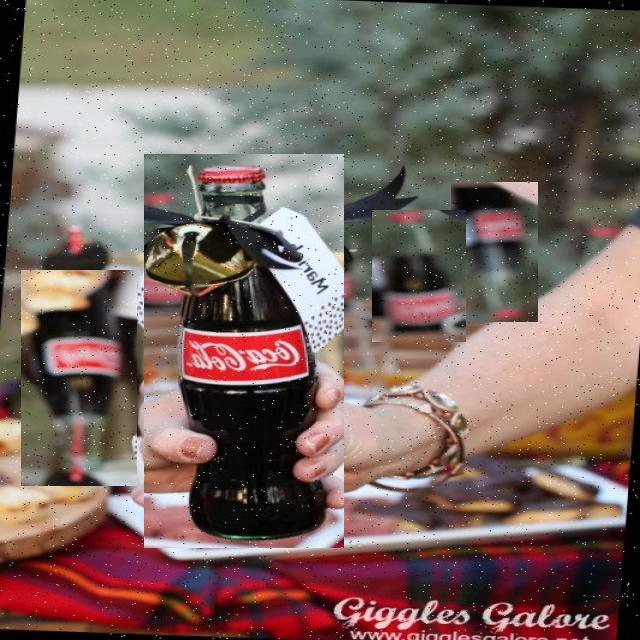coca-cola: (144, 154, 344, 548), (21, 270, 137, 486), (372, 210, 466, 342), (451, 182, 538, 322)
